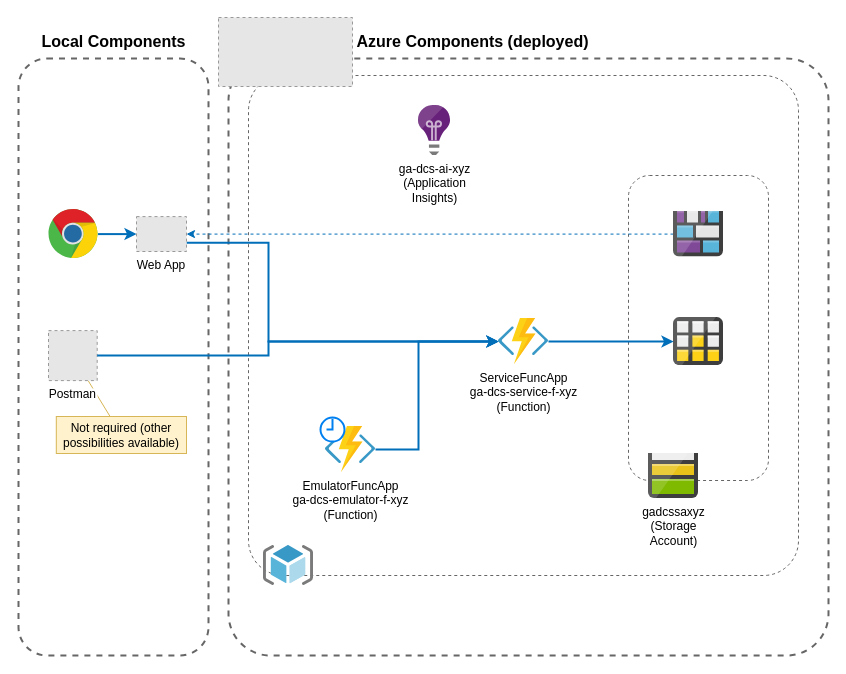
This 846x674 diagram has some shape labels left out. Grey dashed boxes stand in for pictures. The shapes that lost their labels are listed below. From the top down, each one's centre as x and y in pixels, then its label:
At point 73,233: "Browser".
At point 698,234: "SPA Application (Blob)".
At point 698,341: "Entities (Table)".
At point 288,565: "ga-dcs-xyz (Resource Group)".
